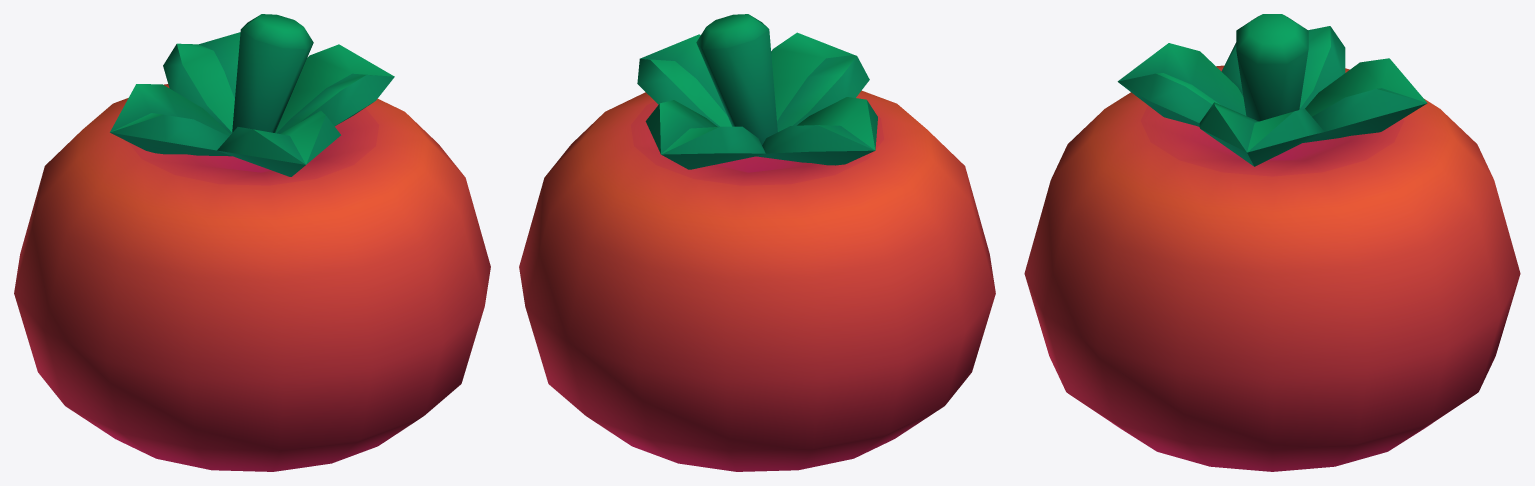
Rendered from food_ingredient_tomato.obj.
The picture shows the model from 3 angles, left to right: view 1: azimuth 30°, elevation 25°; view 2: azimuth 150°, elevation 25°; view 3: azimuth 270°, elevation 25°; orthographic projection. The views are drawn at different scales.
Visible parts, largest first — view 1: food_ingredient_tomato_Sphere.043; view 2: food_ingredient_tomato_Sphere.043; view 3: food_ingredient_tomato_Sphere.043.
Part boxes in pixels (x1,y1,x2,y2): food_ingredient_tomato_Sphere.043: [14, 14, 490, 471]; food_ingredient_tomato_Sphere.043: [519, 14, 995, 471]; food_ingredient_tomato_Sphere.043: [1024, 14, 1520, 471].
Size of the model in its own units: 0.75 by 0.7 by 0.75.
Materials: 1 (1 with a texture image).
